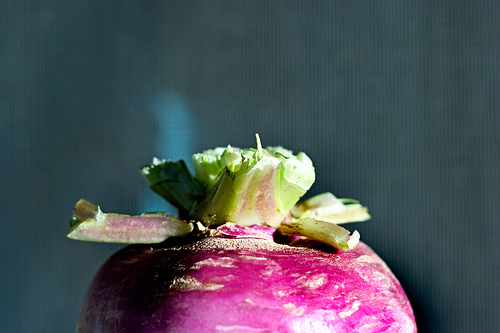turnip: (64, 133, 418, 332)
